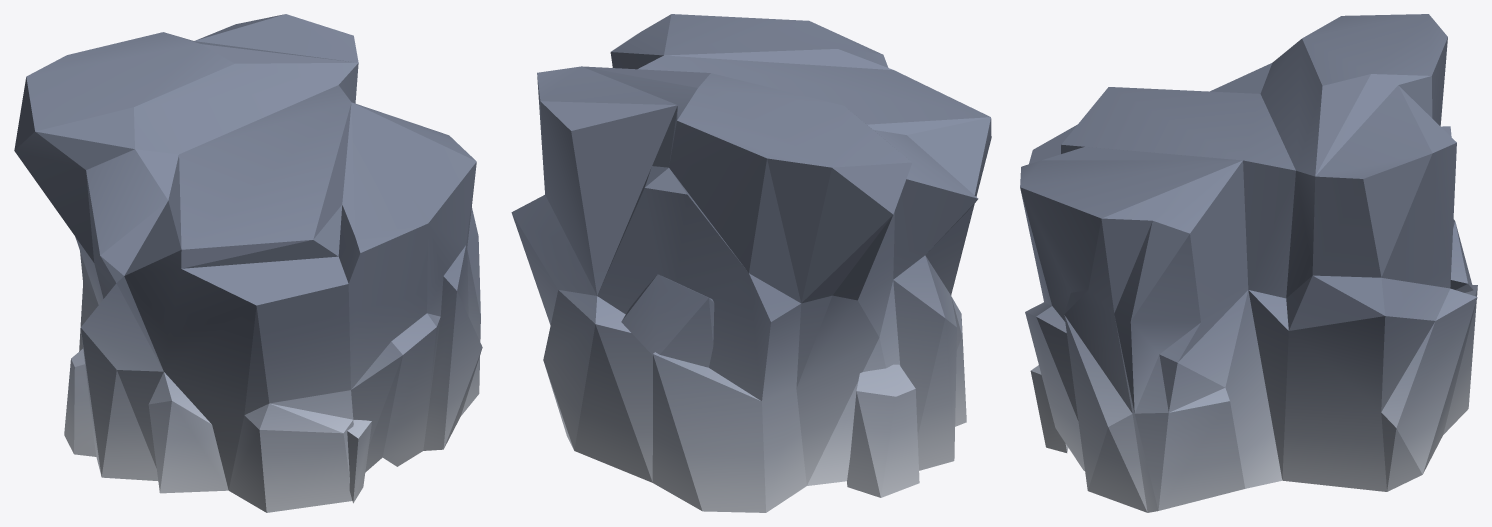
The model's file is Terrain_Stage2_Mountain_7.fbx.
3 views of the same model, side by side, from view 1: azimuth 30°, elevation 25°; view 2: azimuth 150°, elevation 25°; view 3: azimuth 270°, elevation 25° (orthographic). The views are drawn at different scales.
Parts seen in each view (by area): view 1: terrain_mountain_435_LOD1 #1404975; view 2: terrain_mountain_435_LOD1 #1404975; view 3: terrain_mountain_435_LOD1 #1404975.
Boxes of the visible parts, x1,y1,x2,y2 form: terrain_mountain_435_LOD1 #1404975: (14,14,482,512); terrain_mountain_435_LOD1 #1404975: (511,14,991,512); terrain_mountain_435_LOD1 #1404975: (1020,14,1477,512).
Size of the model in its own units: 1537 by 1411 by 1568.
Materials: 1 (1 with a texture image).
